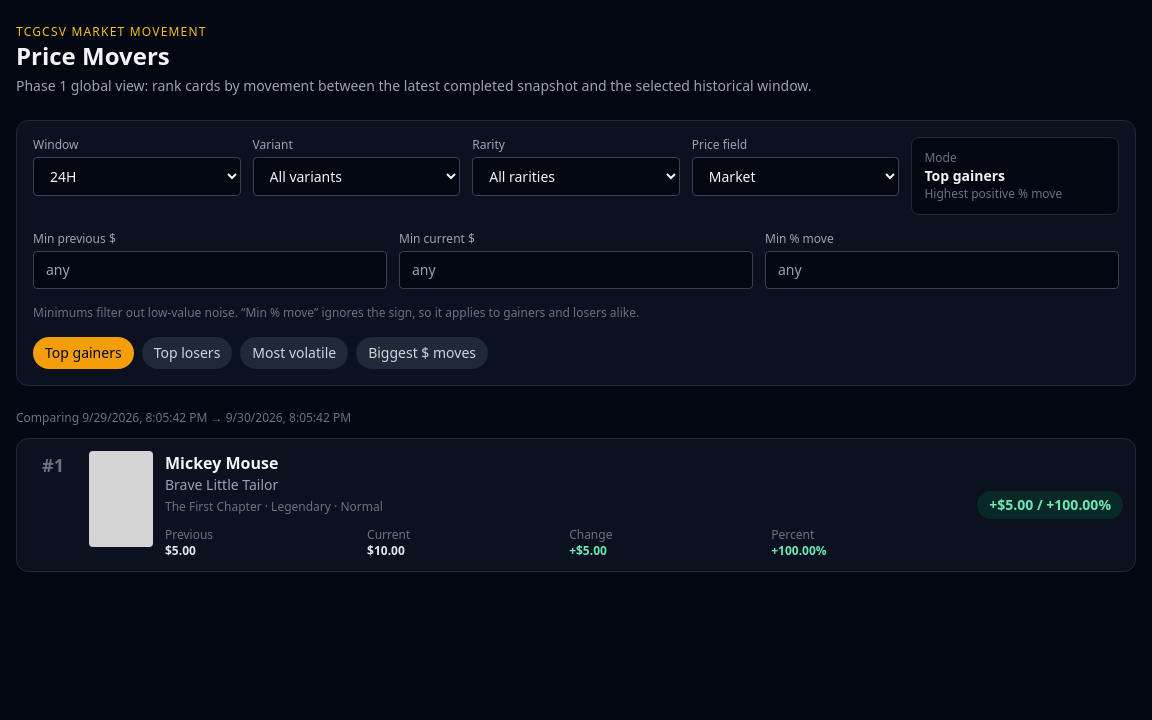
Test case: PriceMoversPage › renders phase-one global price movers and reloads when controls change
Check: the heading "Price Movers" is shown, box [16,39,170,72]
Check: the link "Mickey Mouse" is shown, box [165,452,278,474]
Step 1. Select "Enchanted" in the dropdown labelled "Rarity" → (576, 176), box [472,157,680,196]
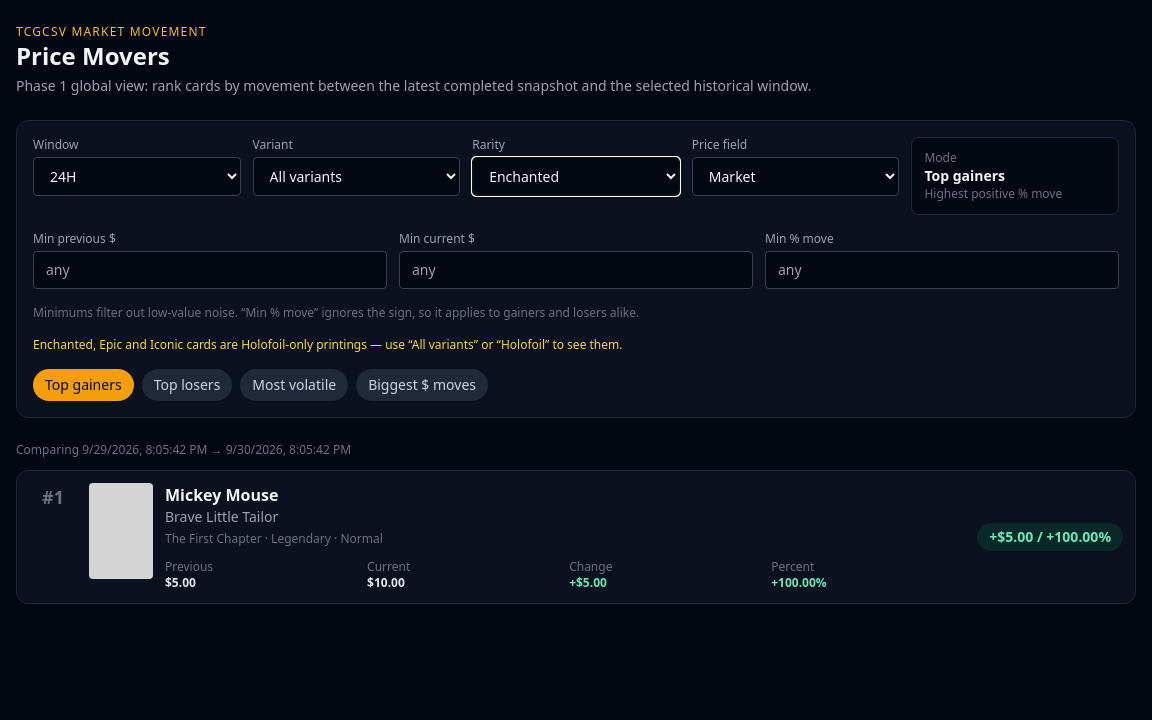
Step 2. Click the button "Top losers" → (187, 385), box [142,369,232,401]
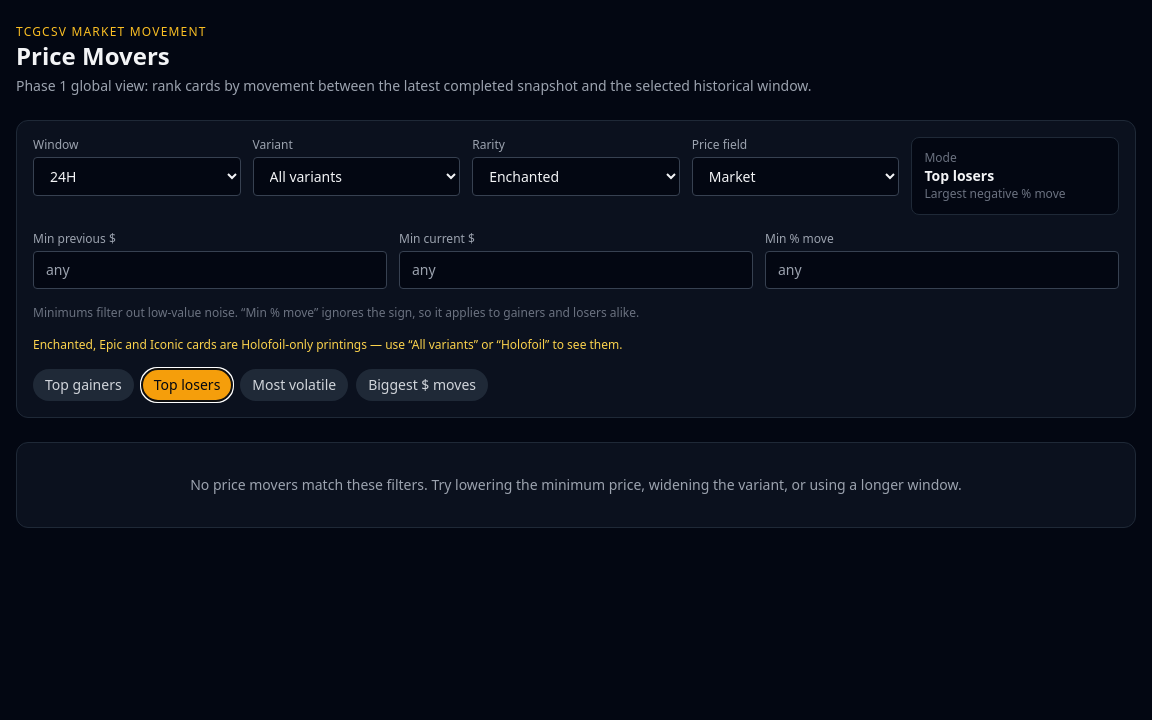
Check: the text "No price movers match these filters. Try lowering the minimum price, widening the variant, or using a longer window." is shown, box [190,475,962,494]
